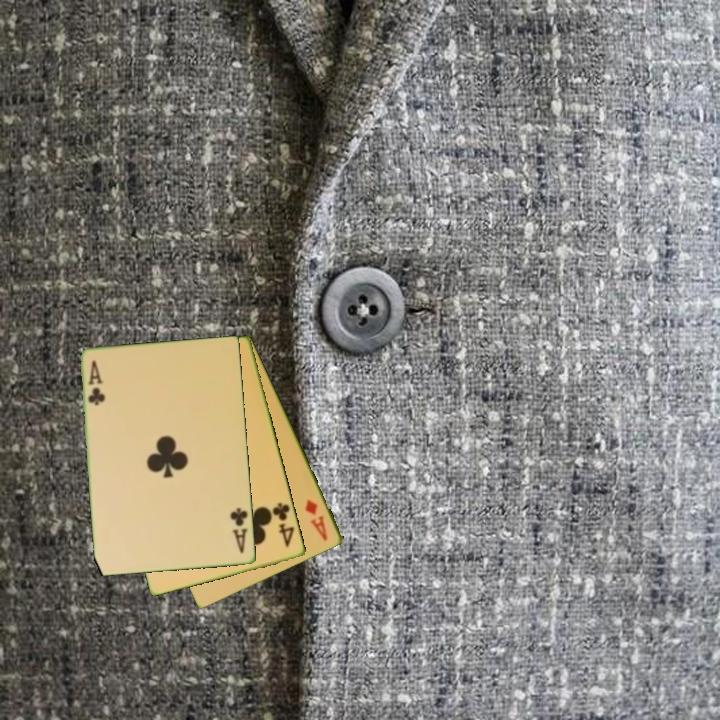4c: (269, 499, 298, 551)
Ac: (227, 505, 251, 556), (85, 357, 108, 409)
Ad: (302, 496, 331, 544)
